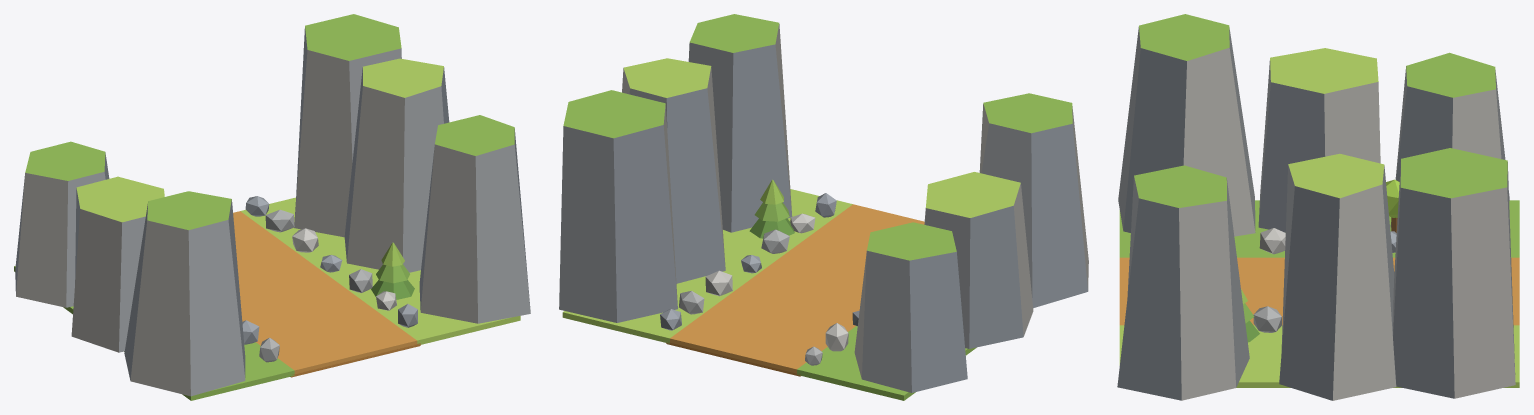
Rendered from canyon-segment-2.glb.
The picture shows the model from 3 angles, left to right: view 1: azimuth 30°, elevation 25°; view 2: azimuth 150°, elevation 25°; view 3: azimuth 270°, elevation 25°; orthographic projection. The views are drawn at different scales.
Parts seen in each view (by area): view 1: Cliff_-1_0, Cliff_1_0, Cliff_1_1, Road, Cliff_1_2, Cliff_-1_1, Cliff_-1_2, GrassBank_1, GrassBank_-1, Pine_0-crown-0, BorderRock_1_5, BorderRock_1_4 (+2 smaller); view 2: Cliff_1_2, Road, Cliff_-1_2, Cliff_-1_0, Cliff_1_0, Cliff_-1_1, Cliff_1_1, GrassBank_1, GrassBank_-1, BorderRock_1_4, Pine_0-crown-0, BorderRock_-1_5 (+3 smaller); view 3: Cliff_1_2, Cliff_1_1, Cliff_1_0, Cliff_-1_0, Cliff_-1_1, Cliff_-1_2, Road, GrassBank_1, GrassBank_-1, BorderRock_1_2, BorderRock_-1_2, RoundTree_1-crown.
Part boxes in pixels (x1,y1,x2,y2): Cliff_-1_0: (124, 191, 245, 396); Cliff_1_0: (419, 115, 530, 323); Cliff_1_1: (344, 58, 449, 272); Road: (233, 211, 417, 374); Cliff_1_2: (294, 14, 401, 237); Cliff_-1_1: (71, 176, 164, 352); Cliff_-1_2: (15, 141, 109, 307); GrassBank_1: (240, 197, 520, 344); GrassBank_-1: (14, 266, 294, 400); Pine_0-crown-0: (371, 280, 414, 299); BorderRock_1_5: (265, 209, 294, 232); BorderRock_1_4: (292, 228, 318, 252); Cliff_1_2: (559, 90, 677, 322); Road: (670, 204, 924, 373); Cliff_-1_2: (854, 222, 967, 392); Cliff_-1_0: (979, 93, 1088, 307); Cliff_1_0: (688, 14, 792, 232); Cliff_-1_1: (924, 172, 1033, 348); Cliff_1_1: (622, 58, 725, 283); GrassBank_1: (562, 189, 852, 343); GrassBank_-1: (797, 326, 976, 400); BorderRock_1_4: (705, 270, 732, 296); Pine_0-crown-0: (749, 218, 794, 238); BorderRock_-1_5: (825, 323, 848, 351); Cliff_1_2: (1393, 148, 1515, 398); Cliff_1_1: (1279, 153, 1396, 400); Cliff_1_0: (1117, 165, 1249, 400); Cliff_-1_0: (1118, 14, 1255, 236); Cliff_-1_1: (1258, 48, 1380, 232); Cliff_-1_2: (1390, 52, 1509, 227); Road: (1119, 257, 1519, 325); GrassBank_1: (1119, 325, 1519, 387); GrassBank_-1: (1119, 200, 1519, 257); BorderRock_1_2: (1253, 306, 1281, 332); BorderRock_-1_2: (1259, 228, 1285, 254); RoundTree_1-crown: (1386, 179, 1399, 217).
Bounding box in the file's own units: 20.58 × 9.02 × 16.09.
